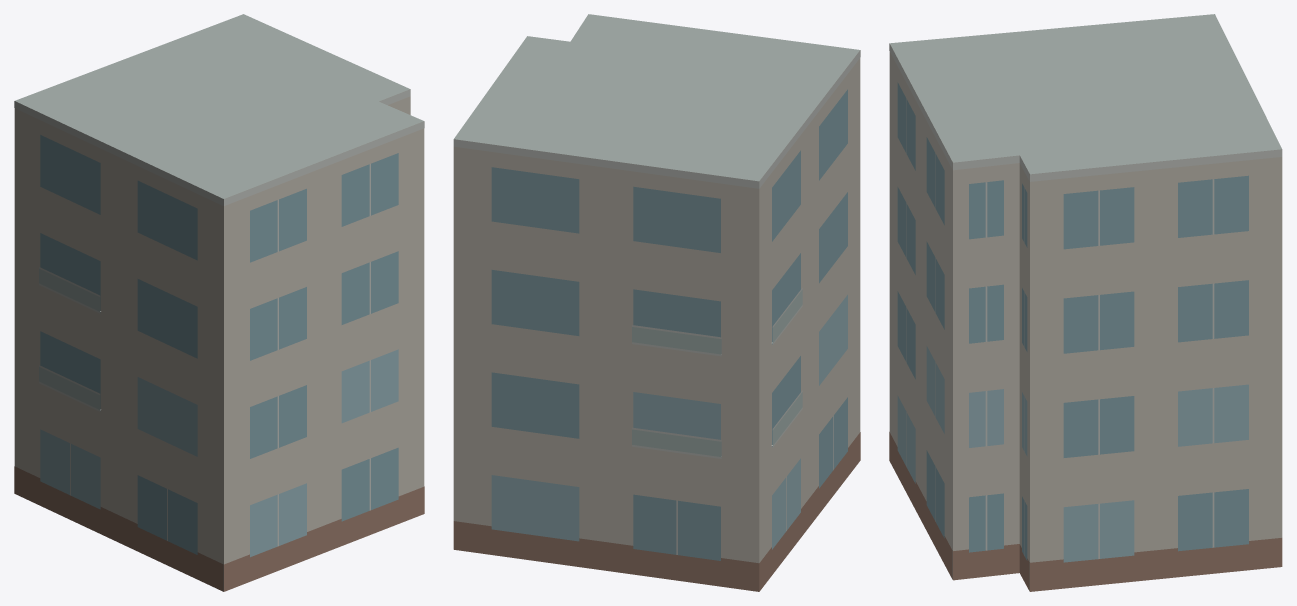
File: survey-upis-32788040.glb
3 renders of one model, left to right at view 1: azimuth 30°, elevation 25°; view 2: azimuth 150°, elevation 25°; view 3: azimuth 270°, elevation 25°, orthographic. The views are drawn at different scales.
Parts seen in each view (by area): view 1: survey-upis-32788040.tmp; view 2: survey-upis-32788040.tmp; view 3: survey-upis-32788040.tmp.
Boxes of the visible parts, x1,y1,x2,y2 form: survey-upis-32788040.tmp: [14, 14, 424, 591]; survey-upis-32788040.tmp: [453, 14, 860, 591]; survey-upis-32788040.tmp: [889, 14, 1282, 591].
Size of the model in its own units: 11.04 by 13.4 by 11.43.
